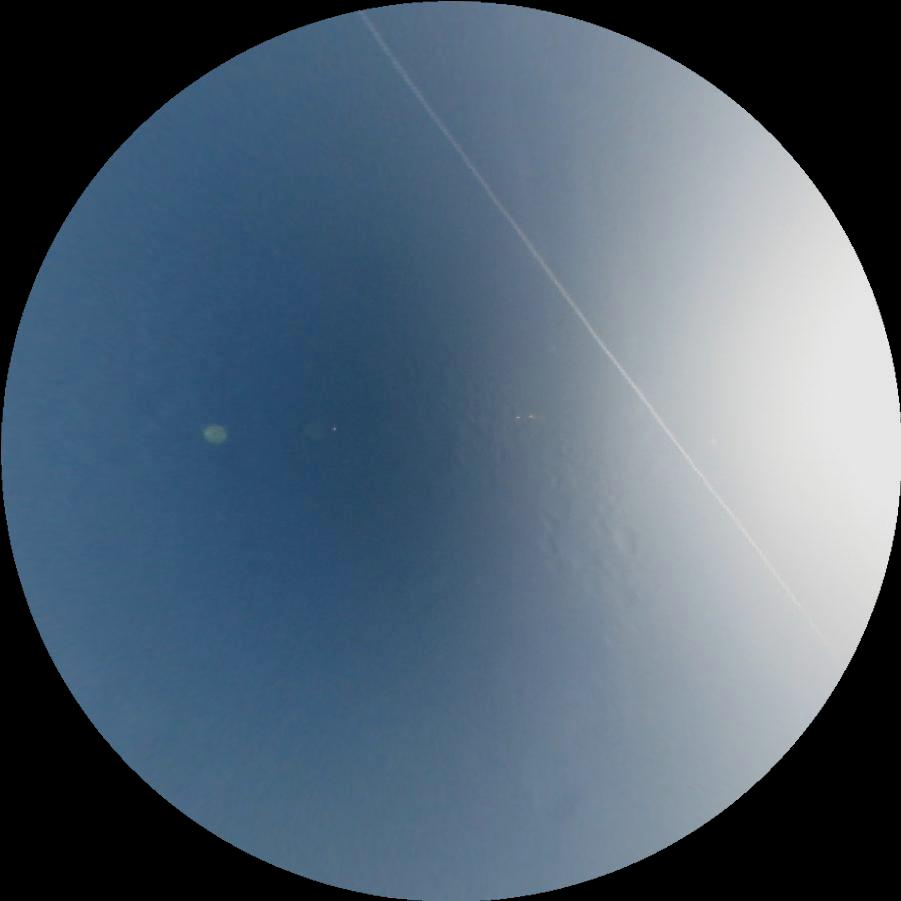contrail young: (353, 6, 824, 641)
